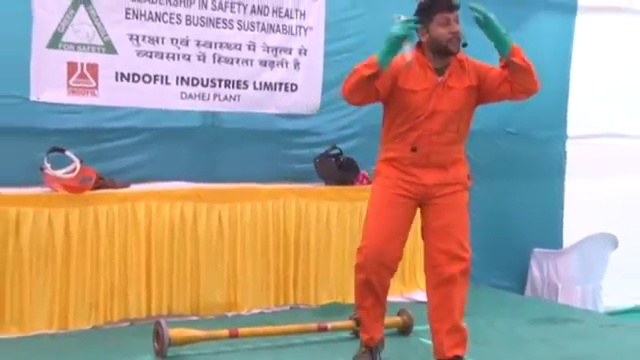helmet_off: (411, 1, 468, 58)
person: (333, 2, 544, 360)
